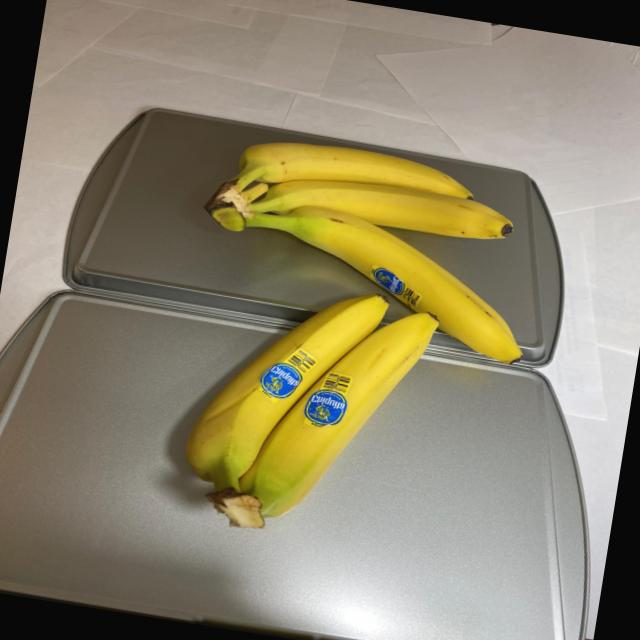banana: (180, 125, 556, 368), (166, 266, 448, 558)
